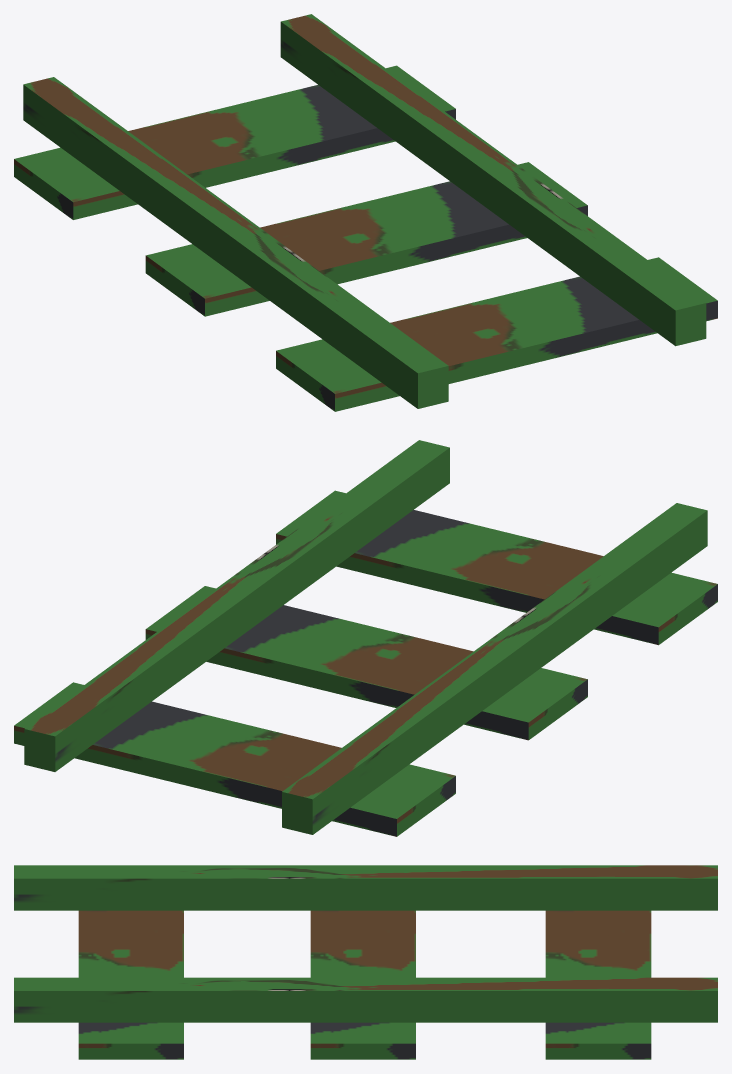
Rendered from rail_v.obj.
3 views of the same model, one above another, from view 1: azimuth 30°, elevation 25°; view 2: azimuth 150°, elevation 25°; view 3: azimuth 270°, elevation 25° (orthographic). The views are drawn at different scales.
Visible parts, largest first — view 1: Cube.001; view 2: Cube.001; view 3: Cube.001.
Boxes of the visible parts, <box> form: Cube.001: <box>14,14,717,411</box>; Cube.001: <box>14,440,717,836</box>; Cube.001: <box>14,865,717,1059</box>.
Size of the model in its own units: 0.56 by 0.075 by 1.
